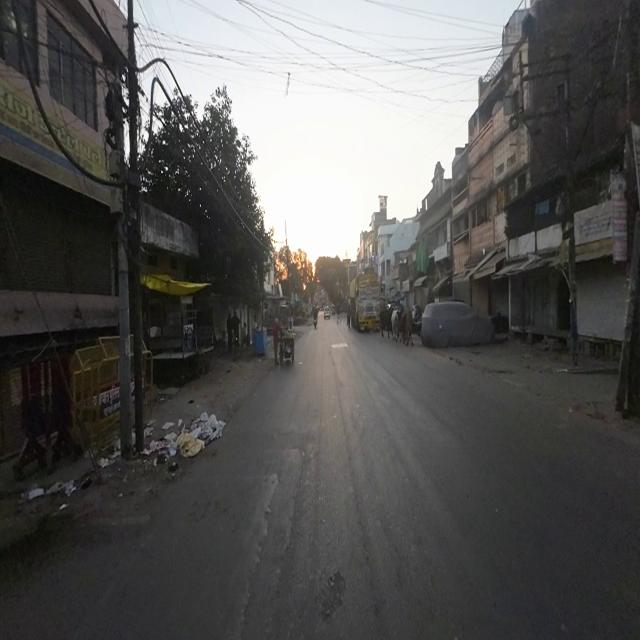Garbage: (147, 408, 229, 462)
